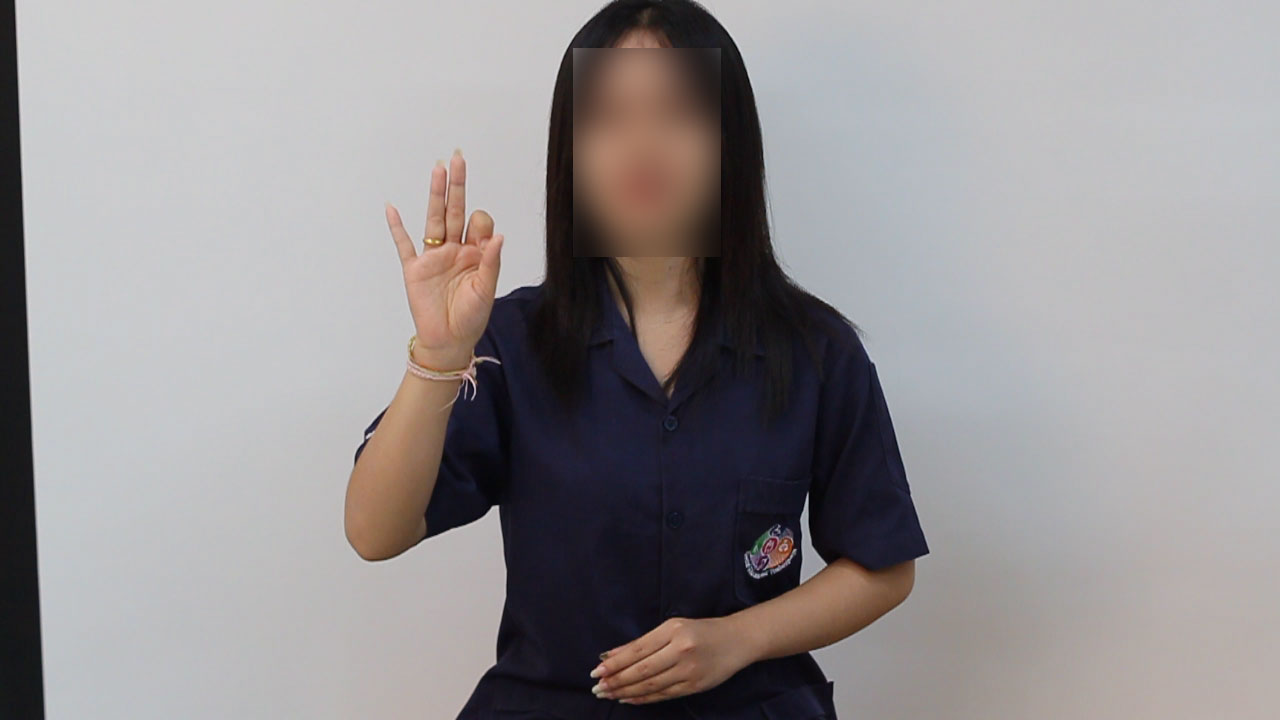for: (380, 139, 508, 355)
